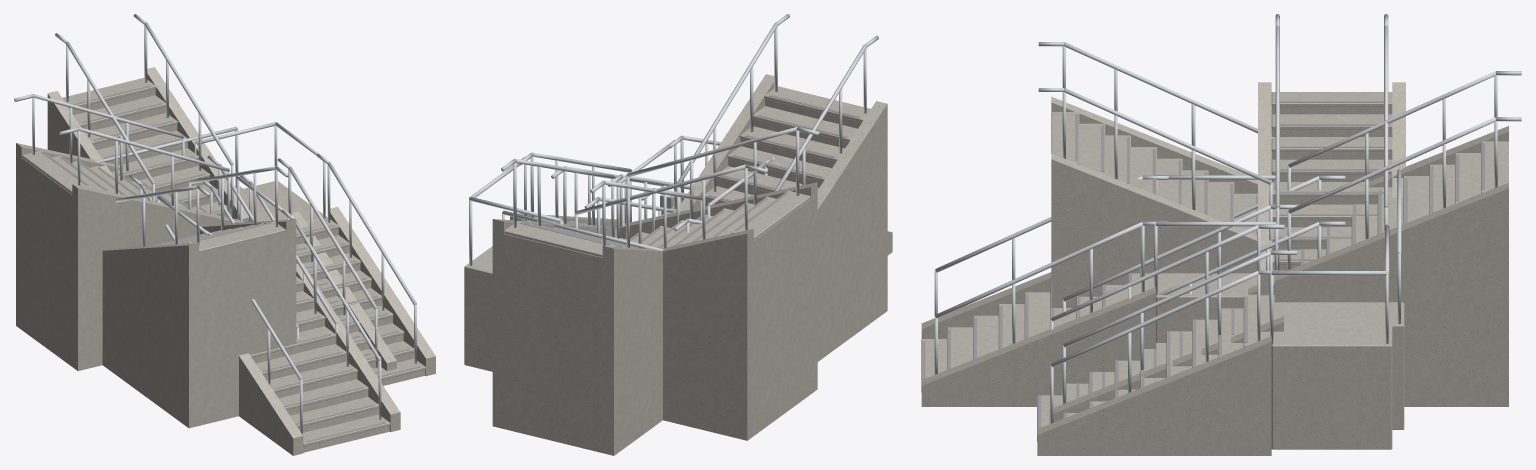
File: ST14-realistic.glb
The picture shows the model from 3 angles, left to right: view 1: azimuth 30°, elevation 25°; view 2: azimuth 150°, elevation 25°; view 3: azimuth 270°, elevation 25°; orthographic projection. The views are drawn at different scales.
Parts seen in each view (by area): view 1: stair__ST14__L__realistic, stair__ST14__U__realistic, stair__ST14__straight-landing__realistic, stair__ST14__straight__realistic; view 2: stair__ST14__L__realistic, stair__ST14__straight-landing__realistic, stair__ST14__U__realistic, stair__ST14__straight__realistic; view 3: stair__ST14__straight-landing__realistic, stair__ST14__L__realistic, stair__ST14__U__realistic, stair__ST14__straight__realistic.
Boxes of the visible parts, left/top/right/bottom form: stair__ST14__L__realistic: left=14, top=94, right=435, bottom=385; stair__ST14__U__realistic: left=95, top=126, right=396, bottom=428; stair__ST14__straight-landing__realistic: left=47, top=14, right=400, bottom=455; stair__ST14__straight__realistic: left=128, top=155, right=253, bottom=240; stair__ST14__L__realistic: left=464, top=127, right=819, bottom=440; stair__ST14__straight-landing__realistic: left=492, top=135, right=892, bottom=455; stair__ST14__U__realistic: left=502, top=14, right=887, bottom=361; stair__ST14__straight__realistic: left=584, top=196, right=702, bottom=233; stair__ST14__straight-landing__realistic: left=921, top=71, right=1521, bottom=406; stair__ST14__L__realistic: left=1037, top=14, right=1405, bottom=455; stair__ST14__U__realistic: left=1038, top=42, right=1404, bottom=429; stair__ST14__straight__realistic: left=1159, top=175, right=1345, bottom=302.
Bounding box in the file's own units: 4.41 × 3.61 × 6.97.
3 materials, 1 textured.
